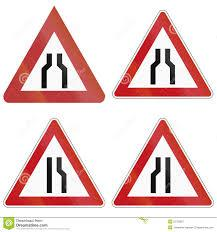narrow_road: (1, 3, 107, 105), (112, 4, 216, 104), (3, 114, 108, 211), (111, 116, 214, 210)
